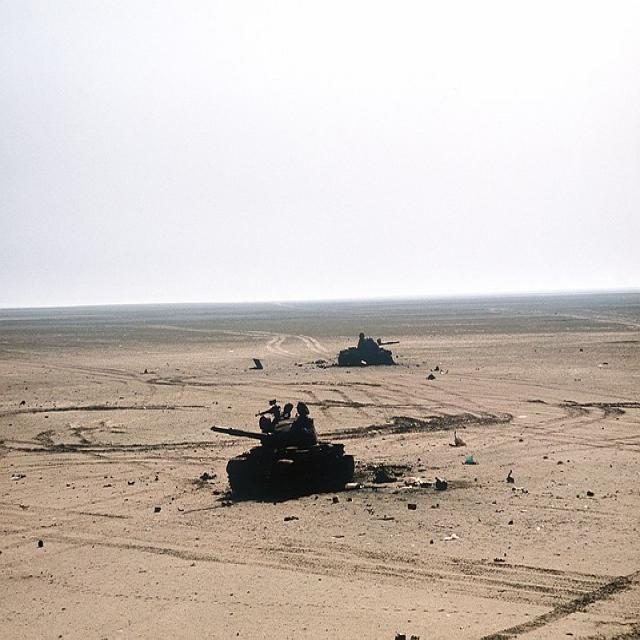tank: (209, 407, 358, 504), (336, 332, 401, 372)
